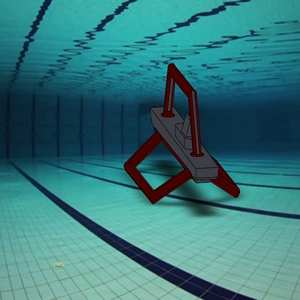submarine: (112, 55, 251, 204)
